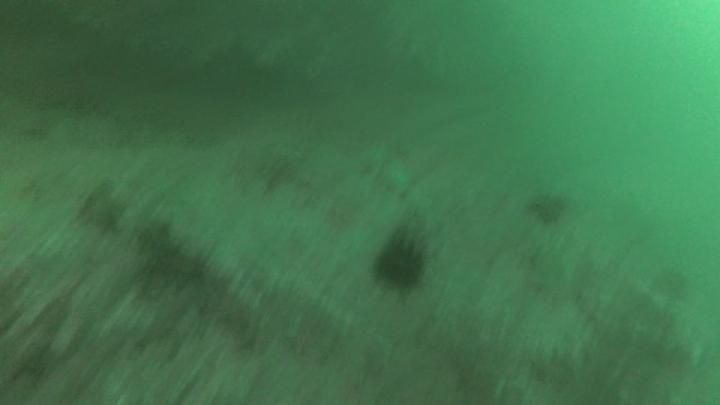echinus: (369, 230, 432, 296), (525, 188, 570, 227), (648, 264, 692, 302)
